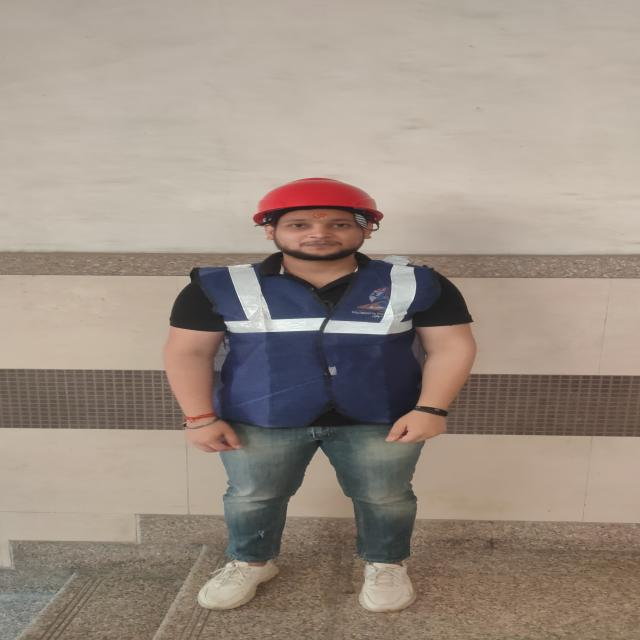safe: (167, 178, 475, 610)
